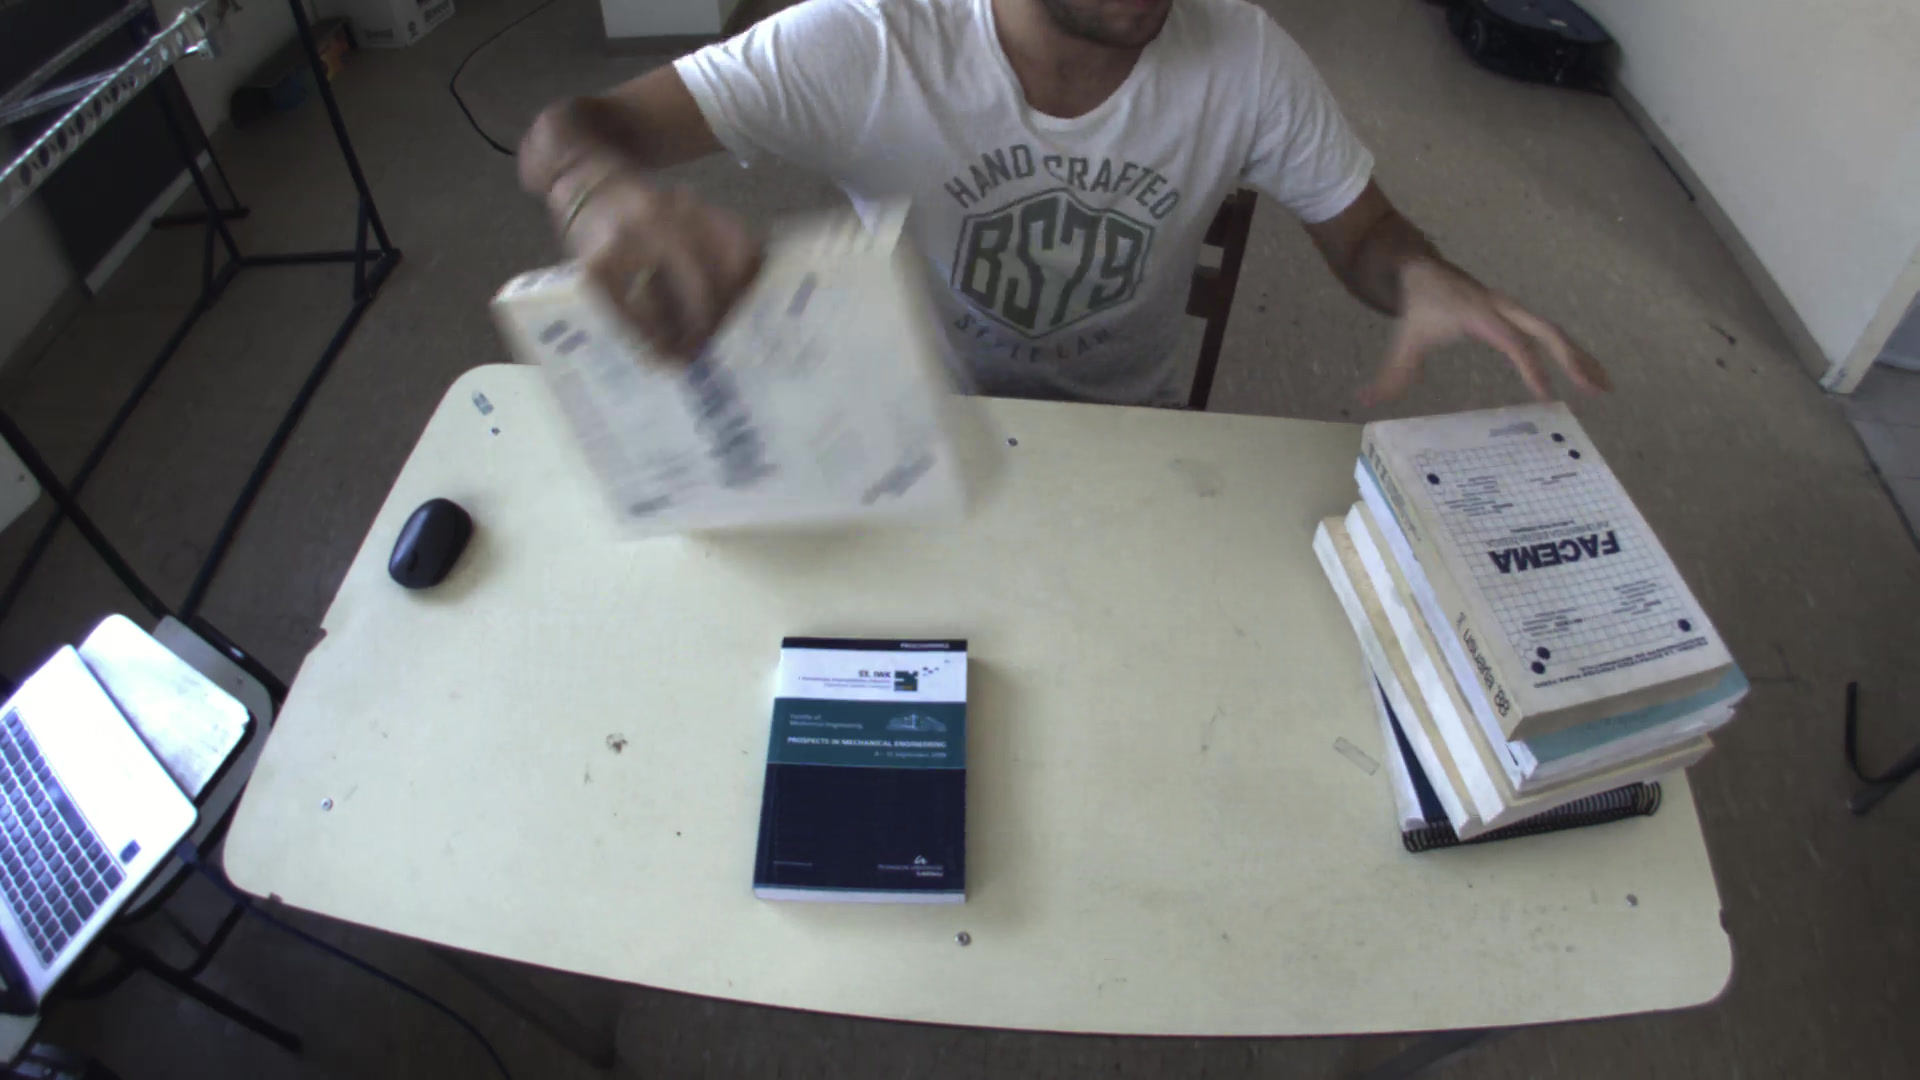hand: (514, 138, 771, 360), (1335, 258, 1626, 406)
